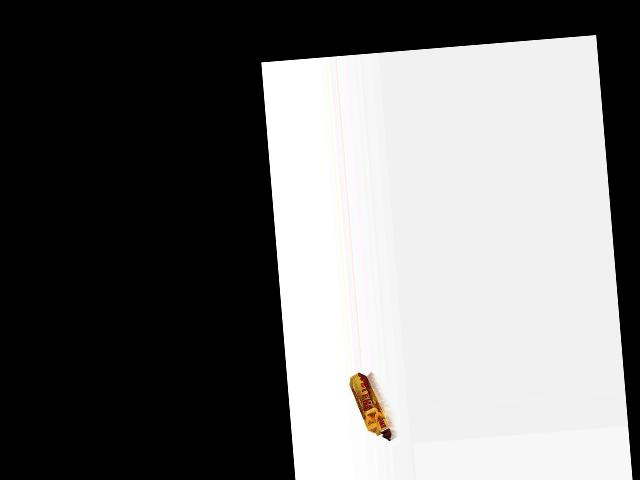chocolate: (347, 370, 395, 444)
